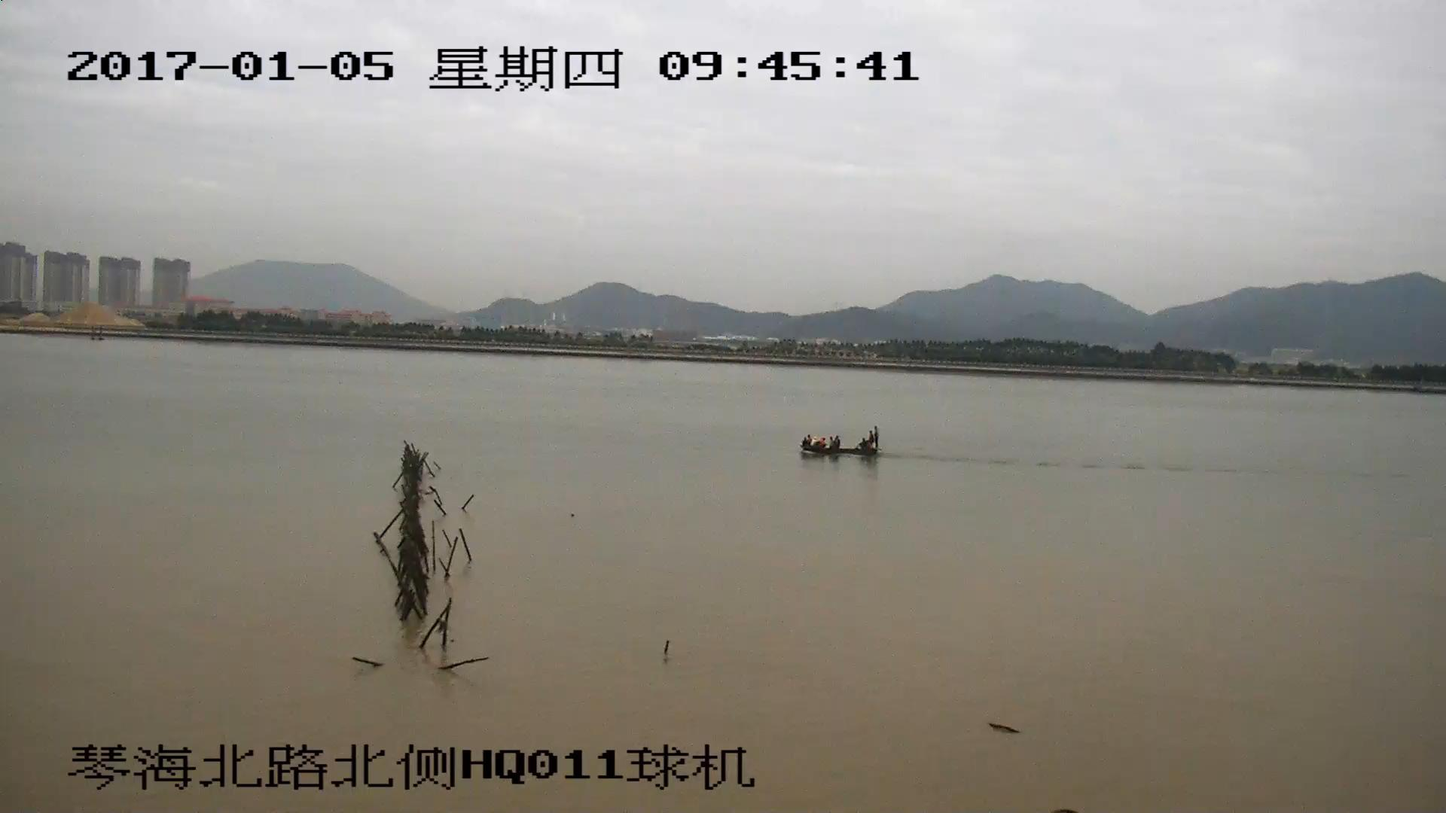fishing boat: (802, 428, 880, 455)
